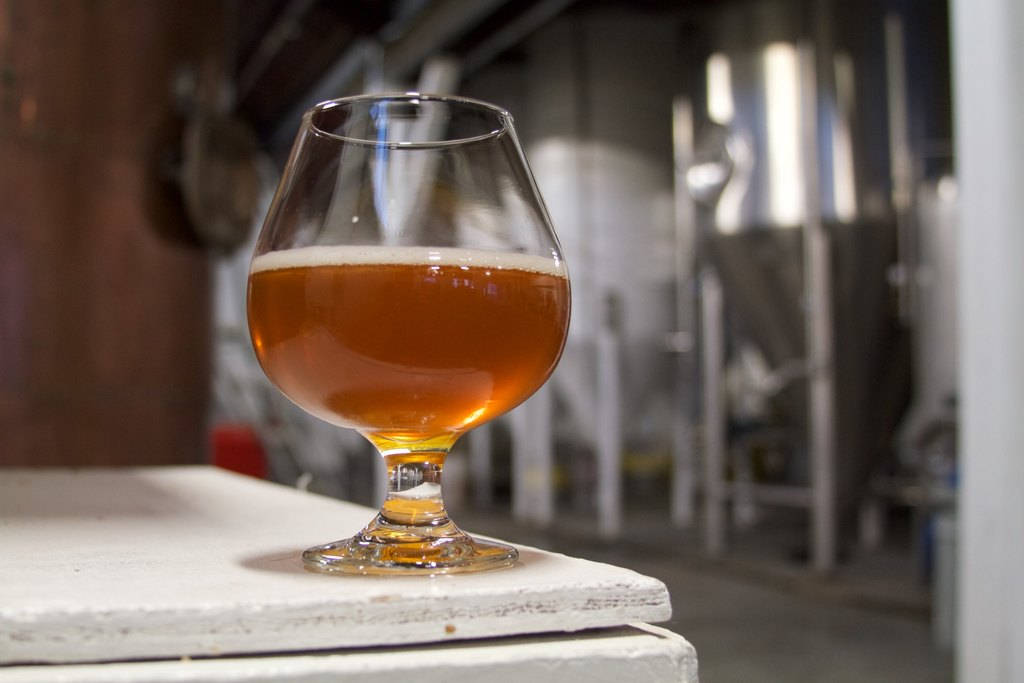Beer: (246, 246, 567, 458)
